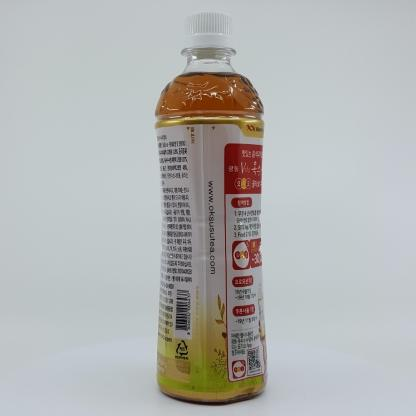---------500ML: (154, 11, 268, 404)
